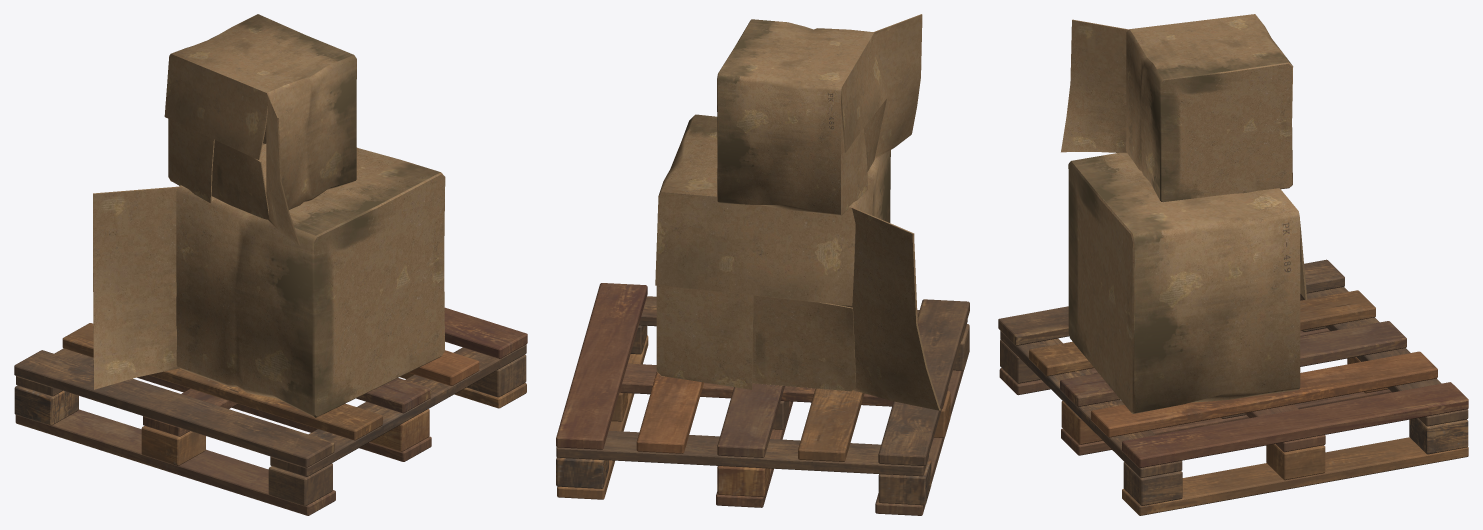
The model's file is Box_Pile.fbx.
3 views of the same model, side by side, from view 1: azimuth 30°, elevation 25°; view 2: azimuth 150°, elevation 25°; view 3: azimuth 270°, elevation 25° (orthographic). The views are drawn at different scales.
Visible parts, largest first — view 1: polySurface2.042, palet.021, polySurface2.041; view 2: polySurface2.042, palet.021, polySurface2.041; view 3: palet.021, polySurface2.042, polySurface2.041.
Boxes of the visible parts, x1=… form: polySurface2.042: x1=93, y1=144, x2=445, y2=417; palet.021: x1=14, y1=307, x2=527, y2=515; polySurface2.041: x1=164, y1=14, x2=356, y2=245; polySurface2.042: x1=655, y1=114, x2=940, y2=410; palet.021: x1=556, y1=283, x2=969, y2=515; polySurface2.041: x1=717, y1=14, x2=922, y2=215; palet.021: x1=998, y1=259, x2=1468, y2=515; polySurface2.042: x1=1068, y1=152, x2=1307, y2=413; polySurface2.041: x1=1061, y1=14, x2=1293, y2=202.
Size of the model in its own units: 118 by 100 by 118.
2 materials, 2 textured.
